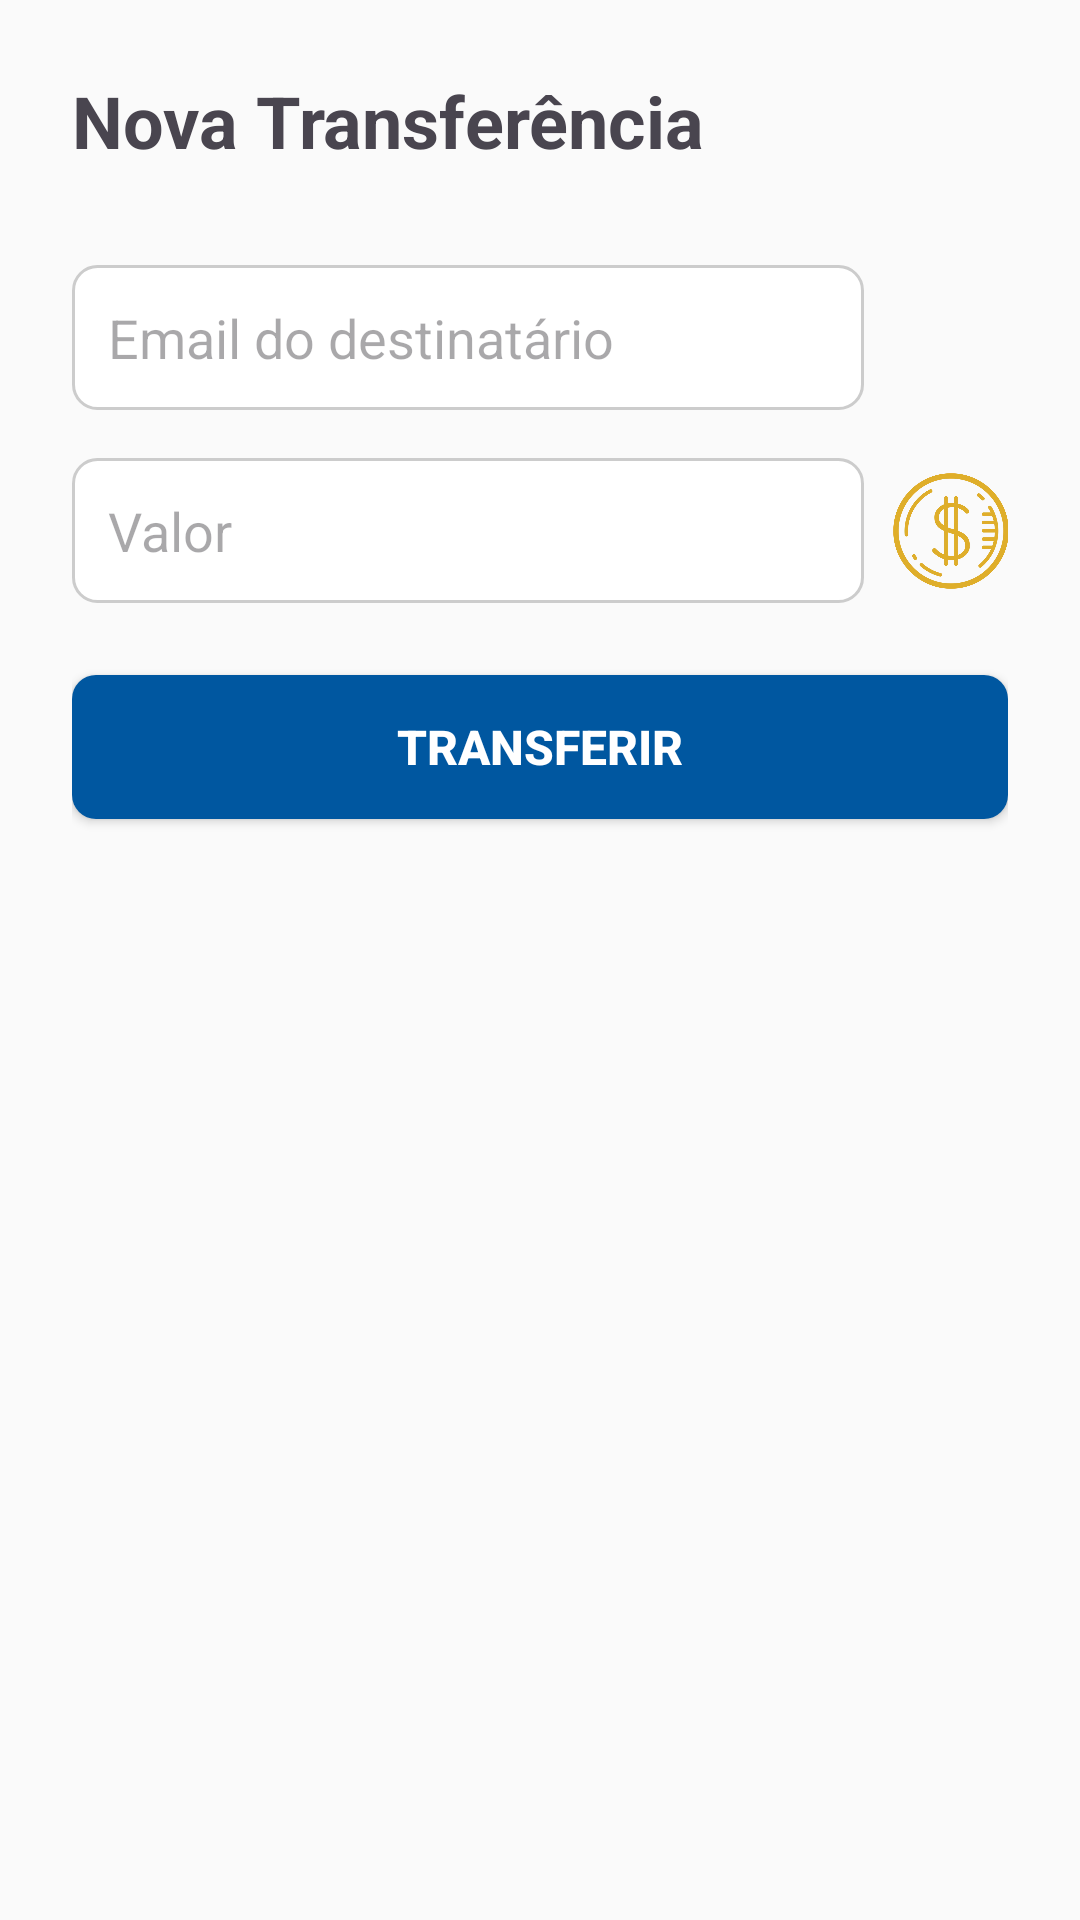

Icons on this 1080×1920 Android screen, each with the point to tap as (x,y):
money: (950,531)
